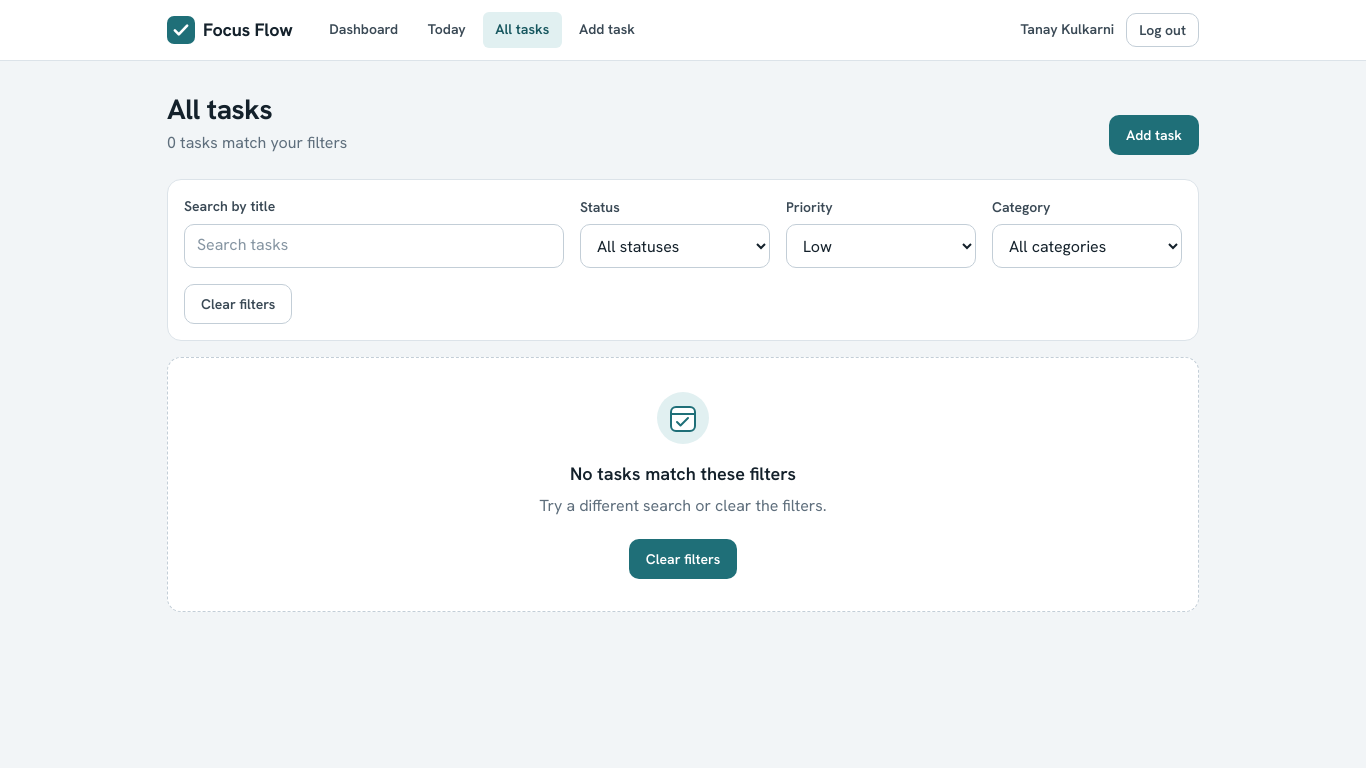
all tasks page › shows "no matches" with a clear-filters action when filters are active
The width and height of the screenshot is (1366, 768).
expect the heading "No tasks match these filters" is shown: met, box [570,462,796,486]
What coordinates should you click on to do the following:
click the button "Clear filters" below "Search by title"
I would click on:
 (238, 304)
Its box is [184,284,292,324].
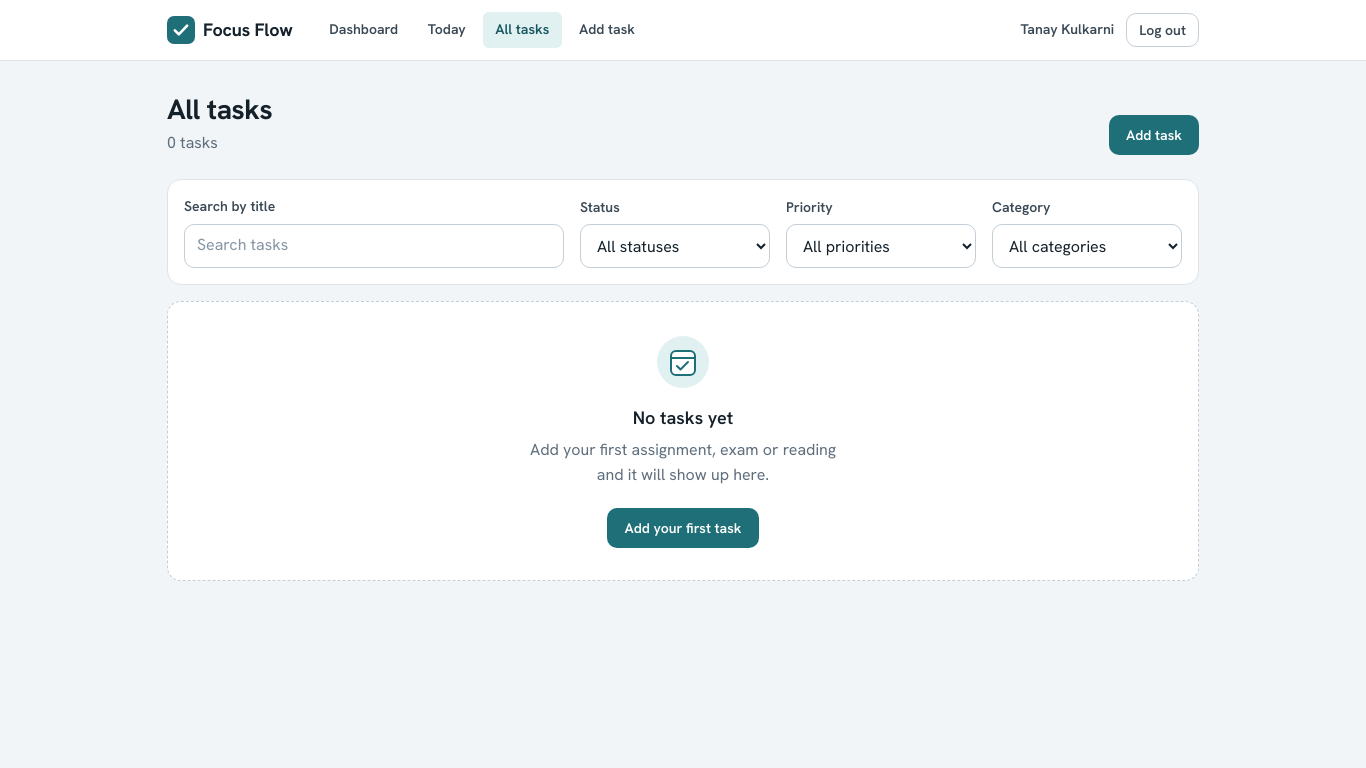
expect the heading "No tasks yet" is shown: met, box [633,406,733,430]
